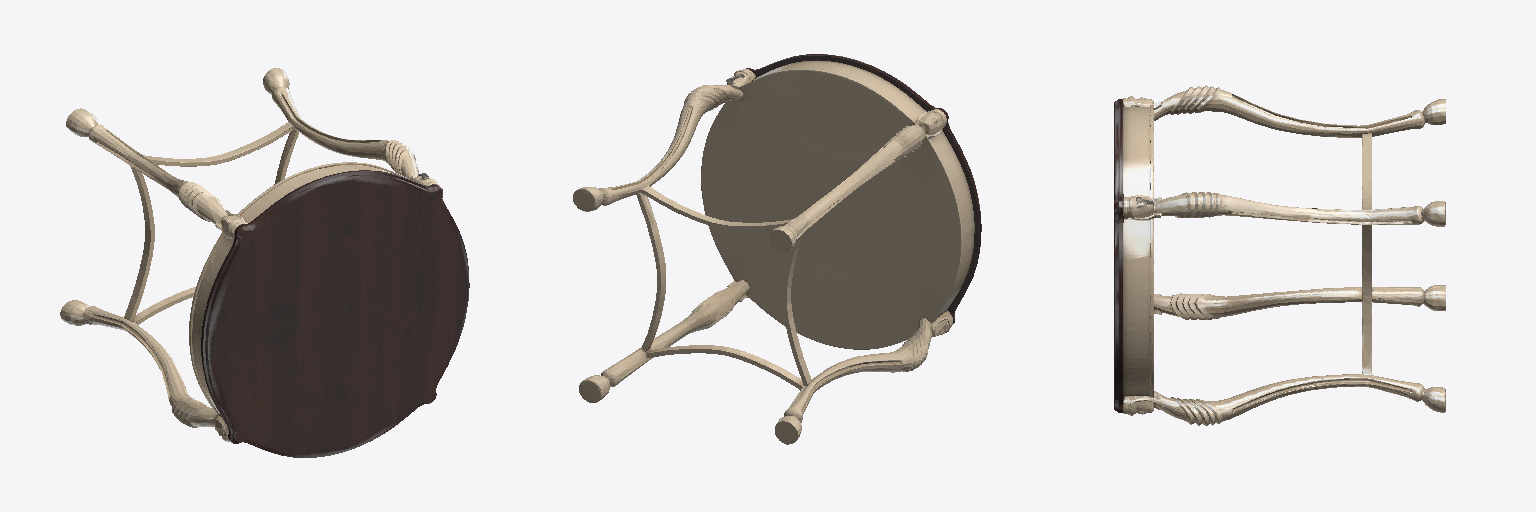
3 views of the same model, side by side, from view 1: azimuth 30°, elevation 25°; view 2: azimuth 150°, elevation 25°; view 3: azimuth 270°, elevation 25° (orthographic).
Bounding box in the file's own units: 0.65 × 0.65 × 0.6989.
1 materials, 1 textured.